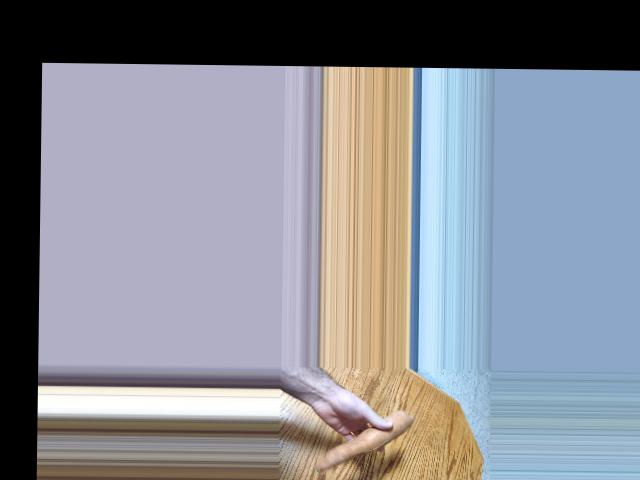sweet_potato: (316, 412, 424, 466)
